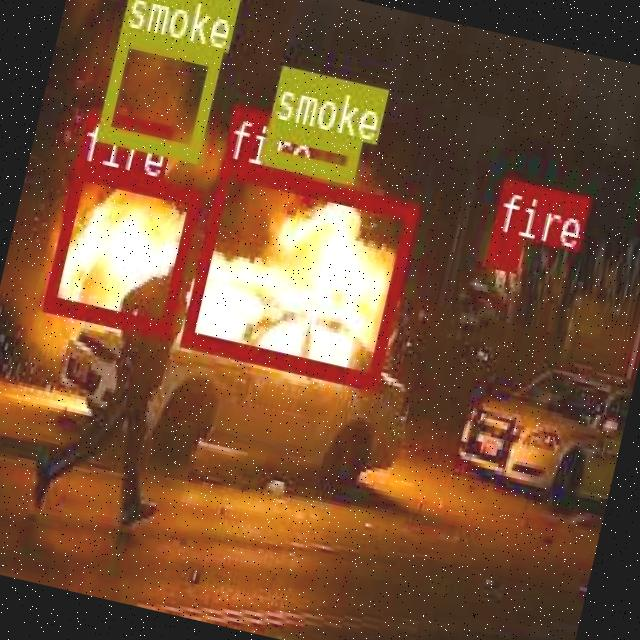fire: (179, 157, 416, 388), (40, 157, 200, 336), (484, 229, 521, 267)
smoke: (94, 26, 220, 158), (259, 116, 359, 178)
